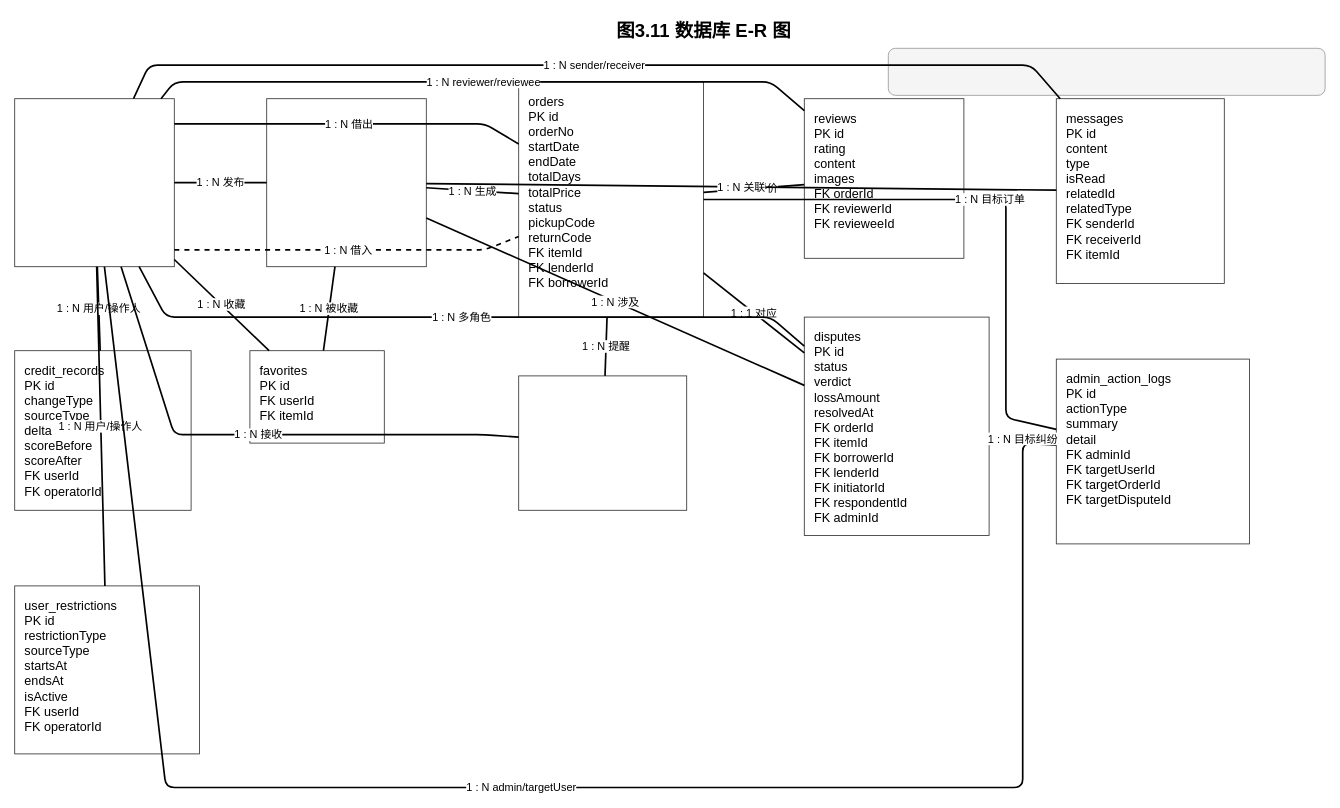
The diagram is 1340 pixels wide and 808 high, and some of its shapes have lost their labels. Each missing label, with the box of its shape:
items PK id title category price deposit transactionType status FK userId: (266, 98, 426, 267)
order_reminder_logs PK id reminderType reminderDate FK orderId FK receiverId: (518, 375, 687, 510)
users PK id studentId username phone creditScore status deletionStatus role: (14, 98, 174, 267)
说明：管理员与超级管理员通过 users.role 区分；图中仅展示主键、主要业务字段和外键。: (887, 47, 1325, 95)
